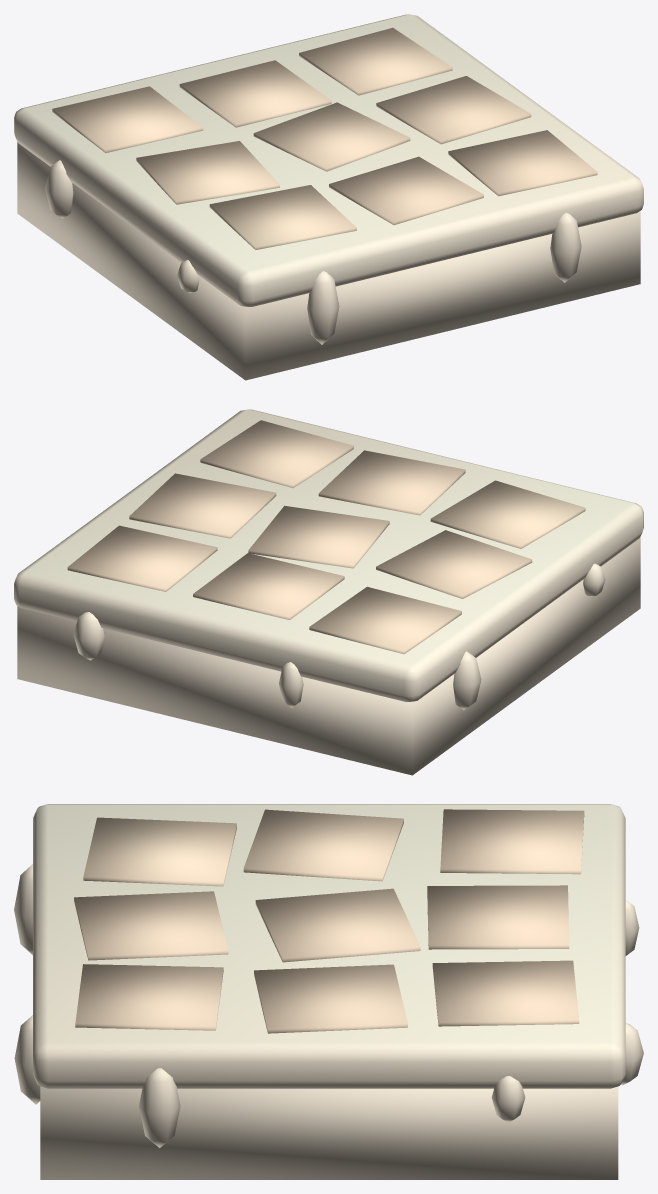
File: bg_tile_cream.glb
3 renders of one model, top to bottom at view 1: azimuth 30°, elevation 25°; view 2: azimuth 150°, elevation 25°; view 3: azimuth 270°, elevation 25°, orthographic. The views are drawn at different scales.
Parts seen in each view (by area): view 1: M_Tile_cream__t_top_cream, M_Tile_cream__pave, M_Tile_cream__t_side_cream; view 2: M_Tile_cream__t_top_cream, M_Tile_cream__pave, M_Tile_cream__t_side_cream; view 3: M_Tile_cream__t_top_cream, M_Tile_cream__pave, M_Tile_cream__t_side_cream.
Part boxes in pixels (left/top/right/bottom): M_Tile_cream__t_top_cream: left=14, top=14, right=643, bottom=344; M_Tile_cream__pave: left=52, top=27, right=597, bottom=249; M_Tile_cream__t_side_cream: left=17, top=142, right=640, bottom=380; M_Tile_cream__t_top_cream: left=14, top=409, right=643, bottom=709; M_Tile_cream__pave: left=67, top=420, right=585, bottom=654; M_Tile_cream__t_side_cream: left=17, top=537, right=640, bottom=775; M_Tile_cream__t_top_cream: left=14, top=804, right=643, bottom=1147; M_Tile_cream__pave: left=74, top=809, right=584, bottom=1033; M_Tile_cream__t_side_cream: left=40, top=1086, right=618, bottom=1179.
Size of the model in its own units: 4.21 by 1.03 by 4.25.
